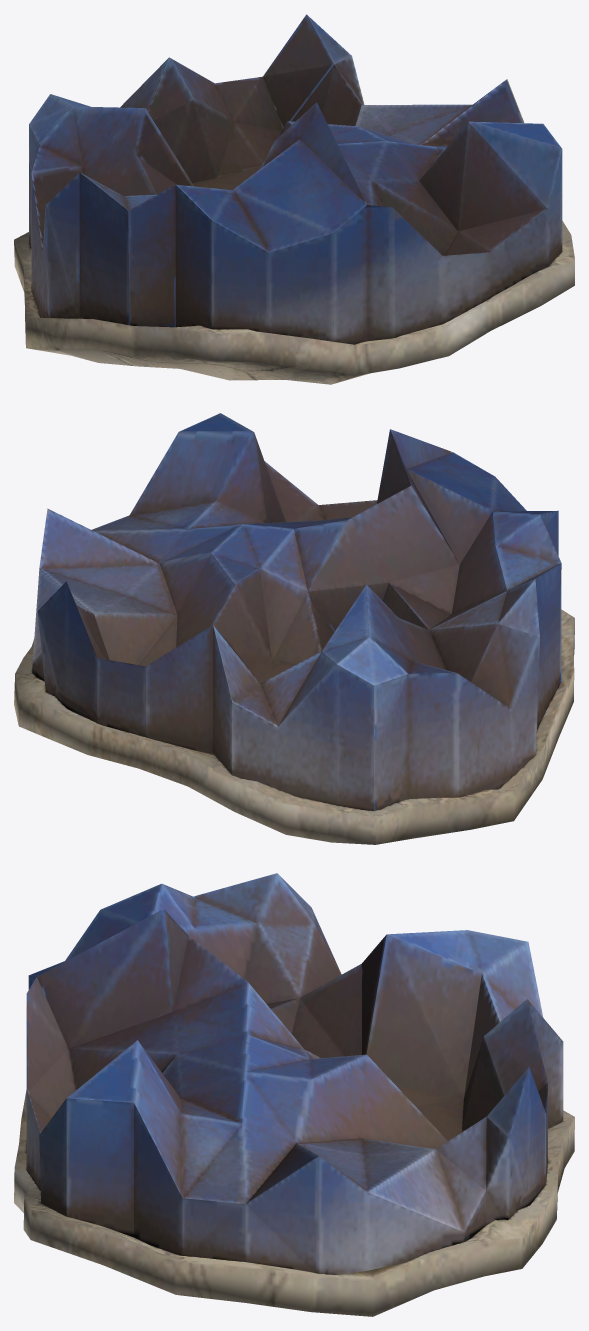
The model's file is CelestiteGeode.glb.
3 views of the same model, one above another, from view 1: azimuth 30°, elevation 25°; view 2: azimuth 150°, elevation 25°; view 3: azimuth 270°, elevation 25° (orthographic). The views are drawn at different scales.
Visible parts, largest first — view 1: CelestiteGeode; view 2: CelestiteGeode; view 3: CelestiteGeode.
Part boxes in pixels (box(x1,y1,x2,y2)): CelestiteGeode: box(14, 14, 574, 384); CelestiteGeode: box(14, 413, 574, 844); CelestiteGeode: box(14, 873, 574, 1316).
Bounding box in the file's own units: 0.4821 × 0.2757 × 0.4277.
Materials: 1 (1 with a texture image).
